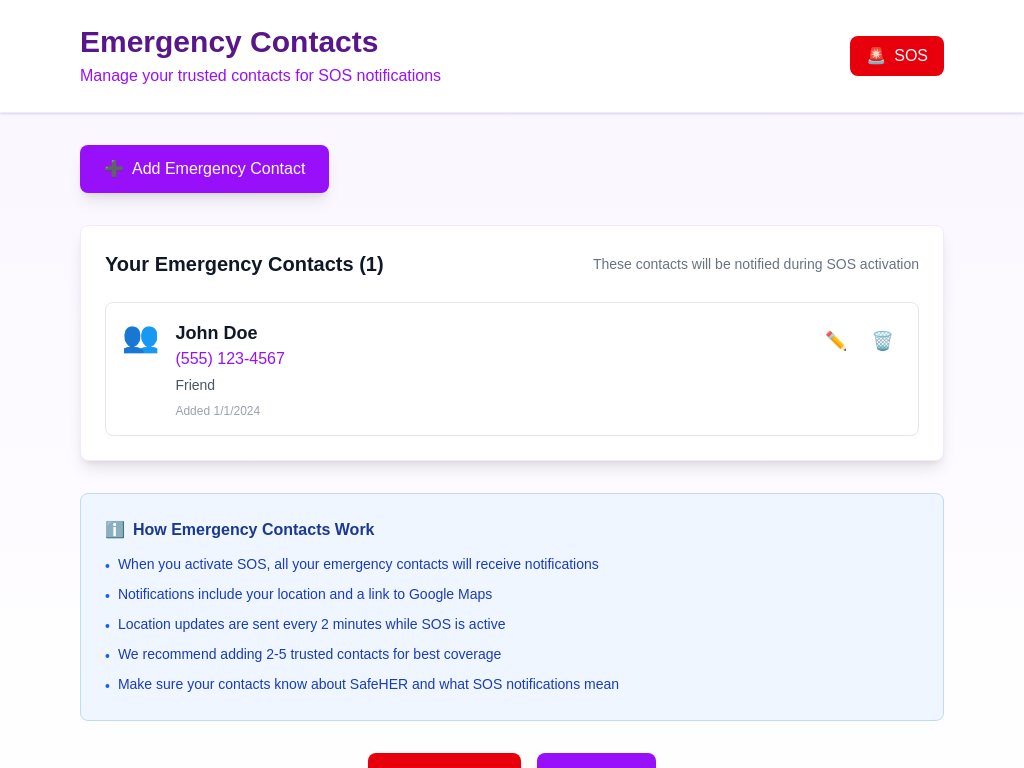
Test: Emergency Contacts Page › should show delete confirmation when delete button is clicked
Click the button titled "Delete contact" at (883, 341), box [864, 319, 902, 363]
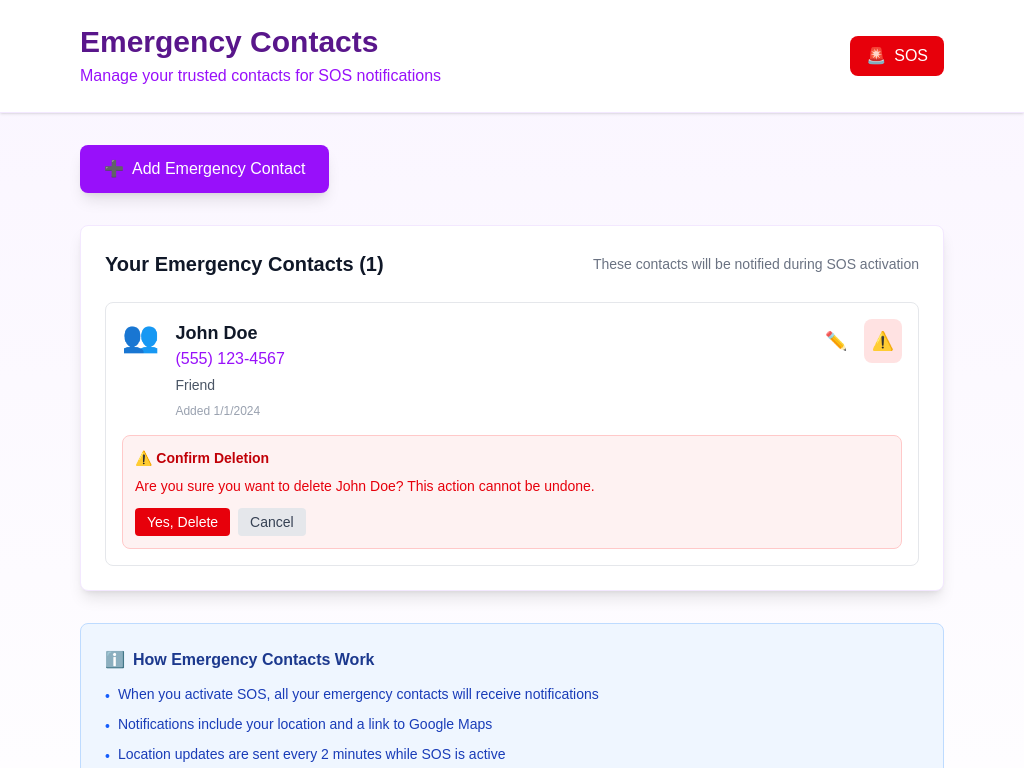
Check: the text "⚠️ Confirm Deletion" is shown, box [135, 450, 269, 466]
Check: the text "Are you sure you want to delete John Doe" is shown, box [135, 478, 595, 494]
